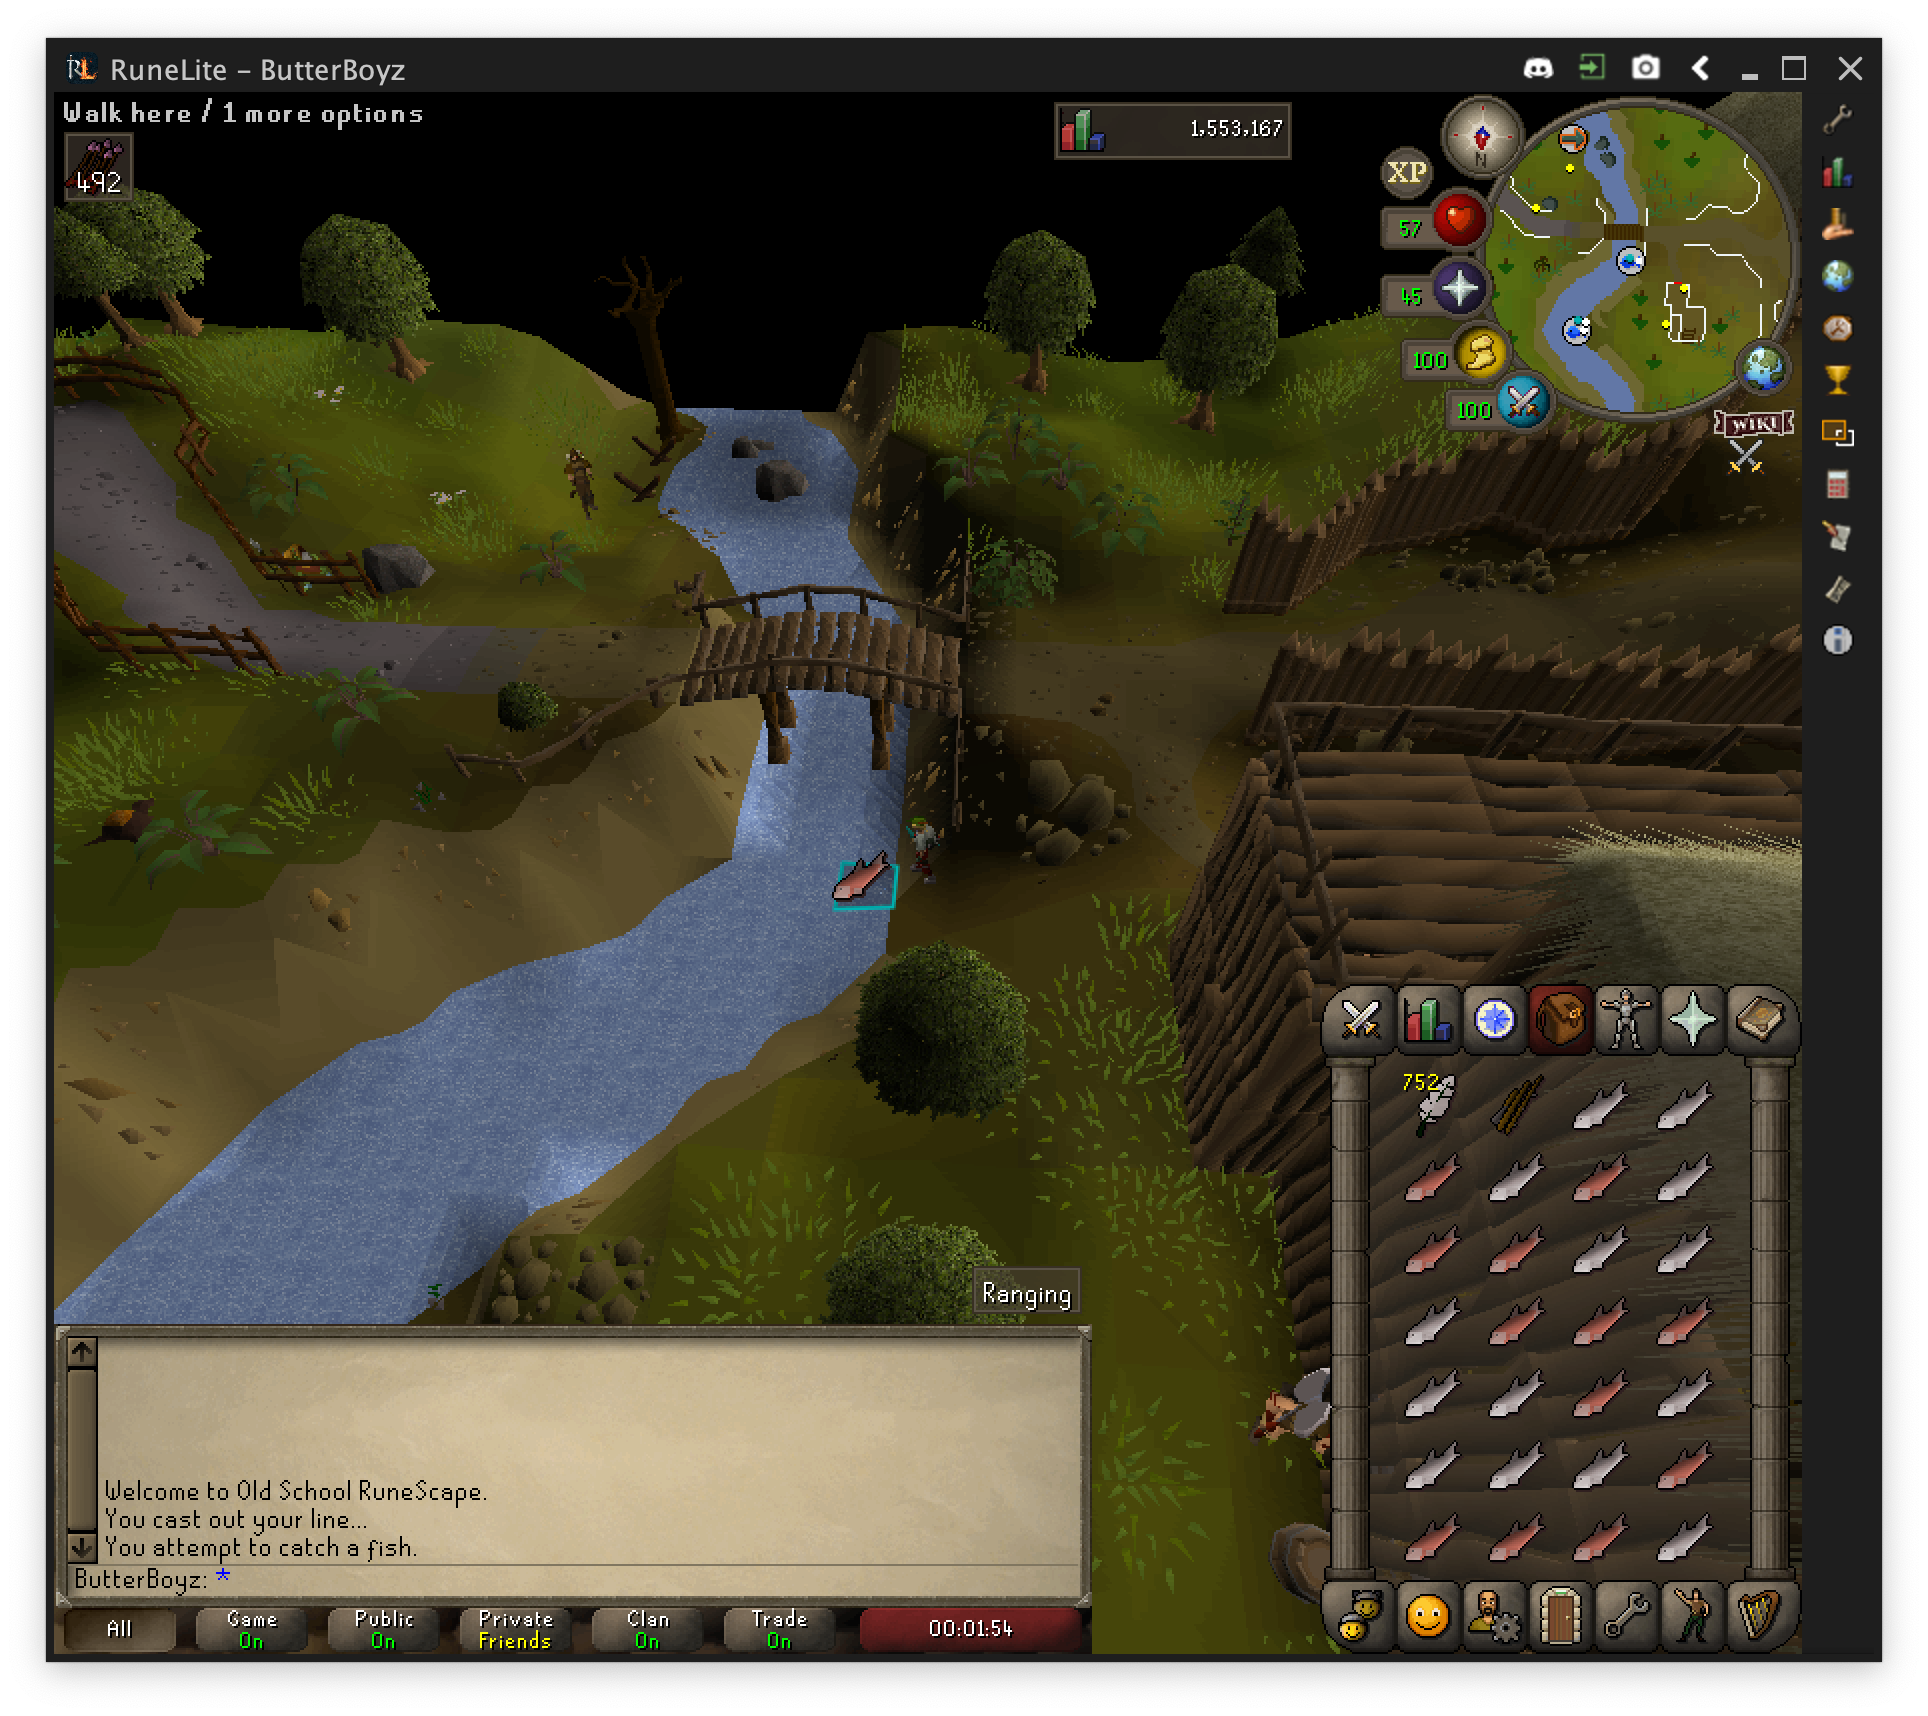fishing spot: (845, 865, 889, 903)
